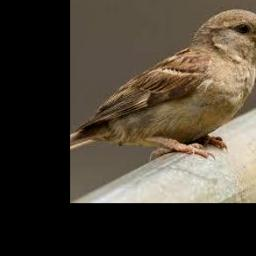Sparrow: (70, 8, 256, 159)
